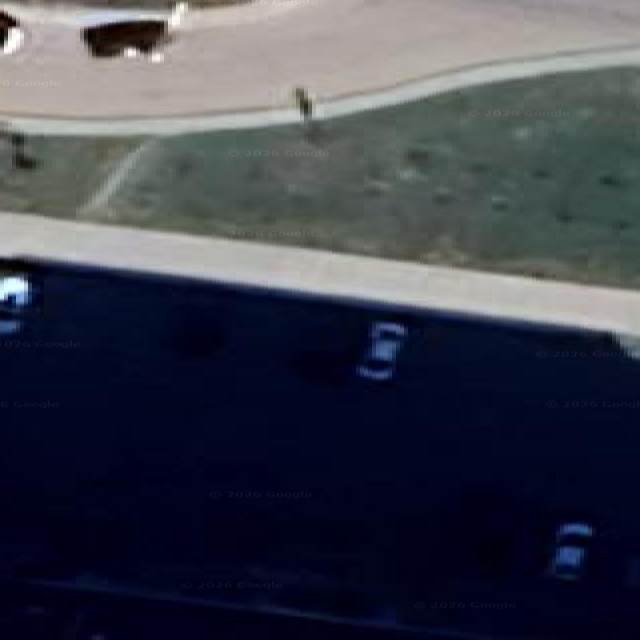car: (82, 3, 187, 61), (357, 322, 407, 380), (547, 522, 594, 580), (0, 273, 37, 334), (0, 10, 23, 54)
